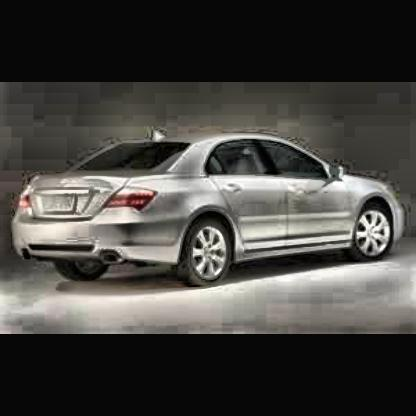Acura TSX Sedan 2012: (12, 133, 408, 289)
